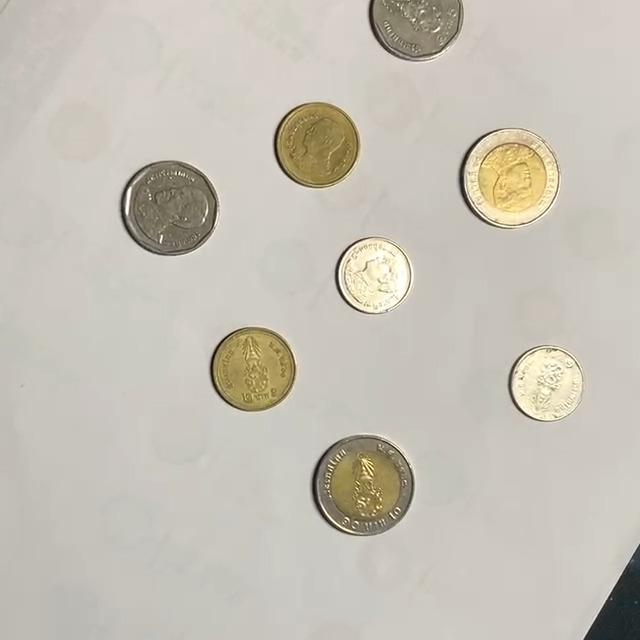1-baht: (337, 237, 415, 316), (509, 346, 589, 423)
10-baht: (314, 436, 415, 537), (462, 128, 562, 228)
2-baht: (276, 102, 363, 188), (211, 327, 297, 412)
5-baht: (121, 160, 222, 256), (368, 0, 466, 62)
